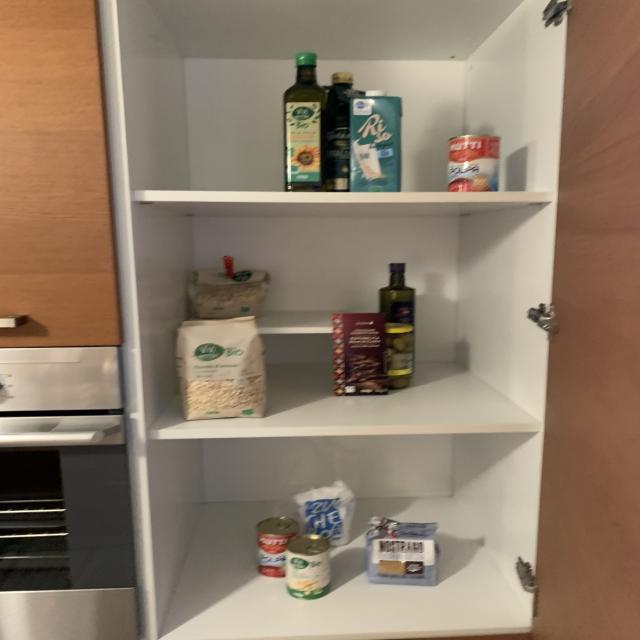chickpeas: (285, 534, 332, 600)
chocolate: (332, 312, 388, 394)
milk: (350, 89, 401, 192)
oats: (176, 318, 269, 420), (191, 271, 265, 317)
oil: (284, 53, 324, 190), (325, 72, 352, 190), (380, 263, 414, 324)
olives: (387, 332, 412, 387)
sugar: (366, 517, 440, 586), (295, 483, 353, 545)
tomato_sauce: (448, 134, 500, 192), (258, 518, 296, 578)
